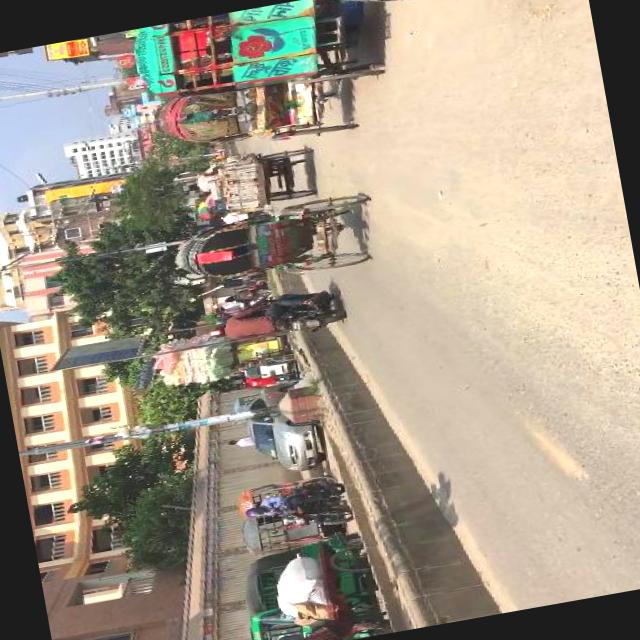car: (242, 377, 322, 478)
motorcycle: (168, 190, 376, 292), (234, 529, 384, 640), (166, 70, 355, 158), (240, 284, 344, 342), (280, 474, 350, 530)
